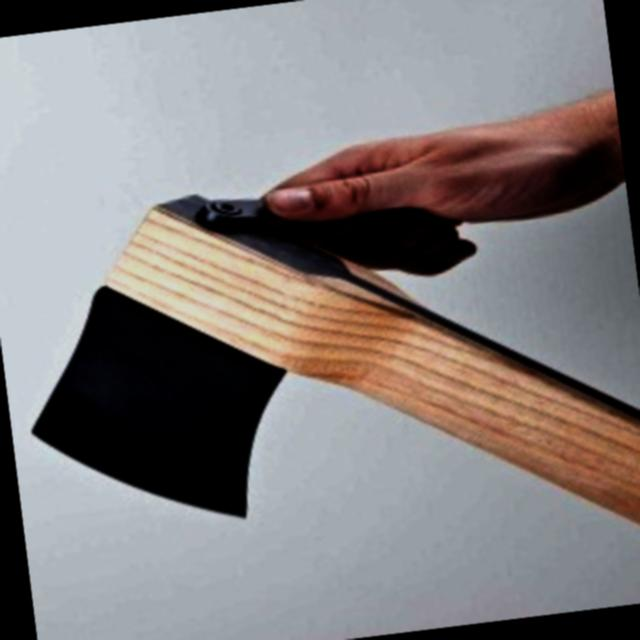ax: (2, 134, 640, 626)
